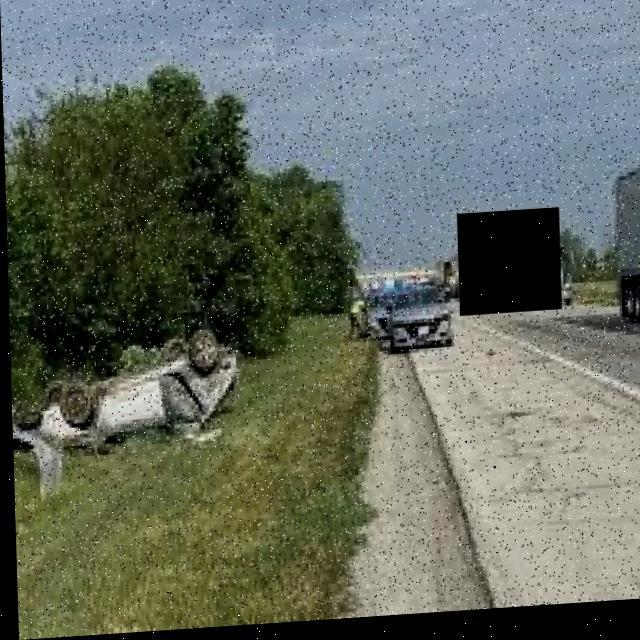single accident: (13, 340, 264, 498)
